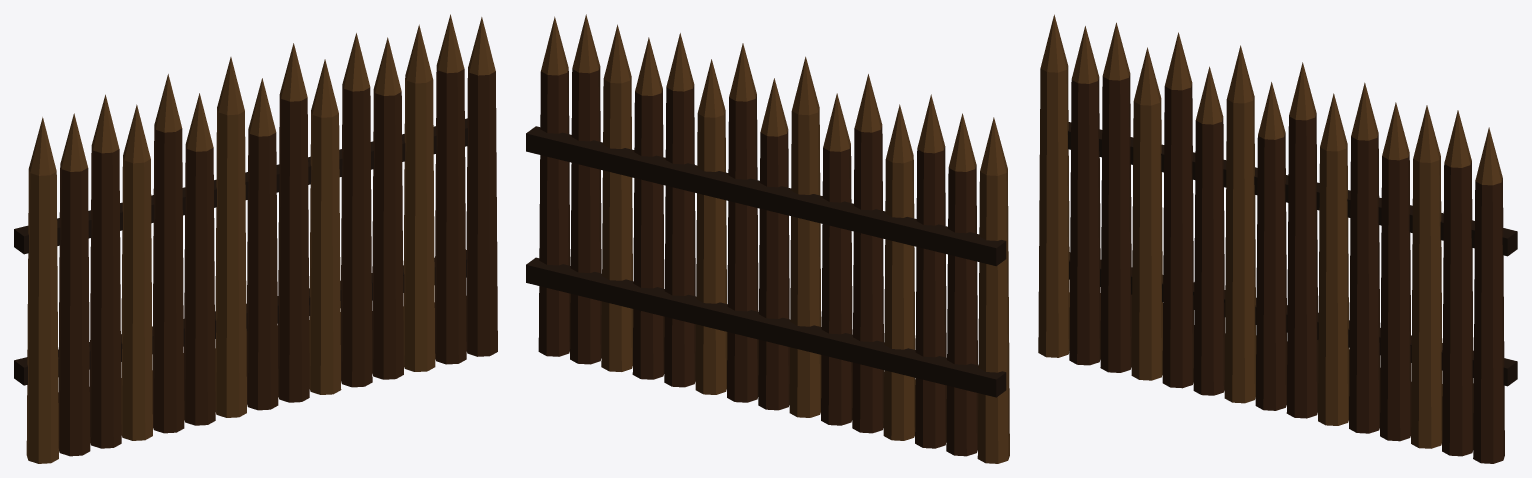
File: PalisadeSegment.fbx
3 views of the same model, side by side, from view 1: azimuth 30°, elevation 25°; view 2: azimuth 150°, elevation 25°; view 3: azimuth 330°, elevation 25° (orthographic).
Parts seen in each view (by area): view 1: PalisadeSegment_LOD0; view 2: PalisadeSegment_LOD0; view 3: PalisadeSegment_LOD0.
Boxes of the visible parts, x1,y1,x2,y2 form: PalisadeSegment_LOD0: (14, 14, 497, 463); PalisadeSegment_LOD0: (526, 14, 1009, 463); PalisadeSegment_LOD0: (1038, 14, 1517, 463).
Size of what is drawn, in the model's own units: 6 by 4.33 by 0.474.
